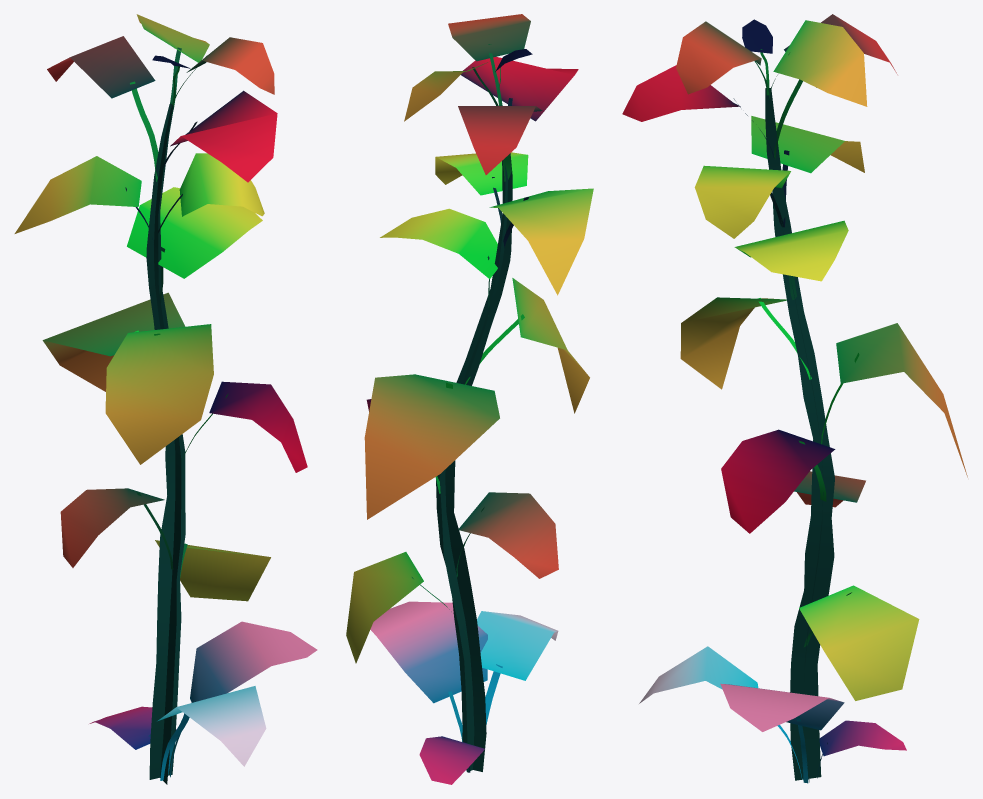
Rendered from Money_Plant_uchmfdyia_Low_uchmfdyia_VarA_LOD1.fbx.
3 renders of one model, left to right at view 1: azimuth 30°, elevation 25°; view 2: azimuth 150°, elevation 25°; view 3: azimuth 270°, elevation 25°, orthographic. The views are drawn at different scales.
Visible parts, largest first — view 1: _7c21_VarA_LOD2; view 2: _7c21_VarA_LOD2; view 3: _7c21_VarA_LOD2.
Boxes of the visible parts, x1,y1,x2,y2 form: _7c21_VarA_LOD2: (14, 14, 317, 784); _7c21_VarA_LOD2: (346, 14, 593, 784); _7c21_VarA_LOD2: (622, 14, 967, 783).
Bounding box in the file's own units: 17.98 × 51.77 × 21.54.
